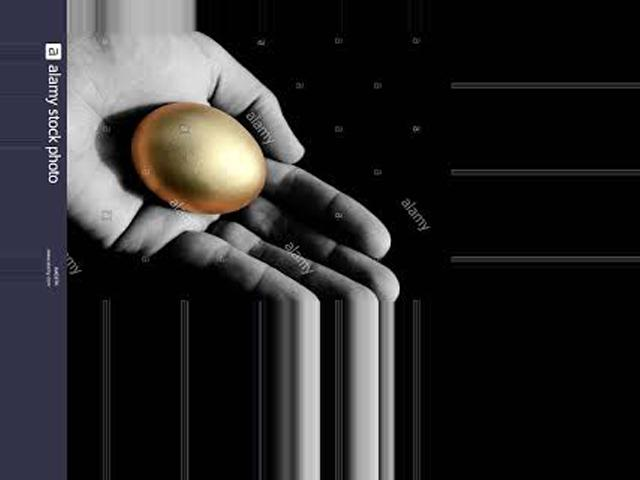egg: (133, 104, 265, 214)
